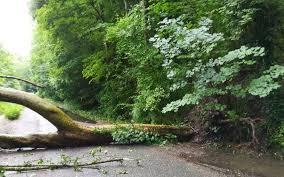Downstairs: (1, 82, 196, 151)
